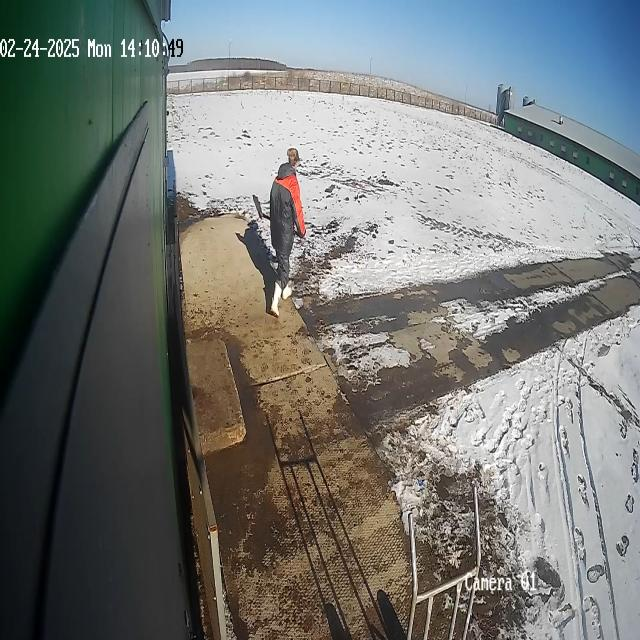Red uniform: (266, 146, 307, 319)
